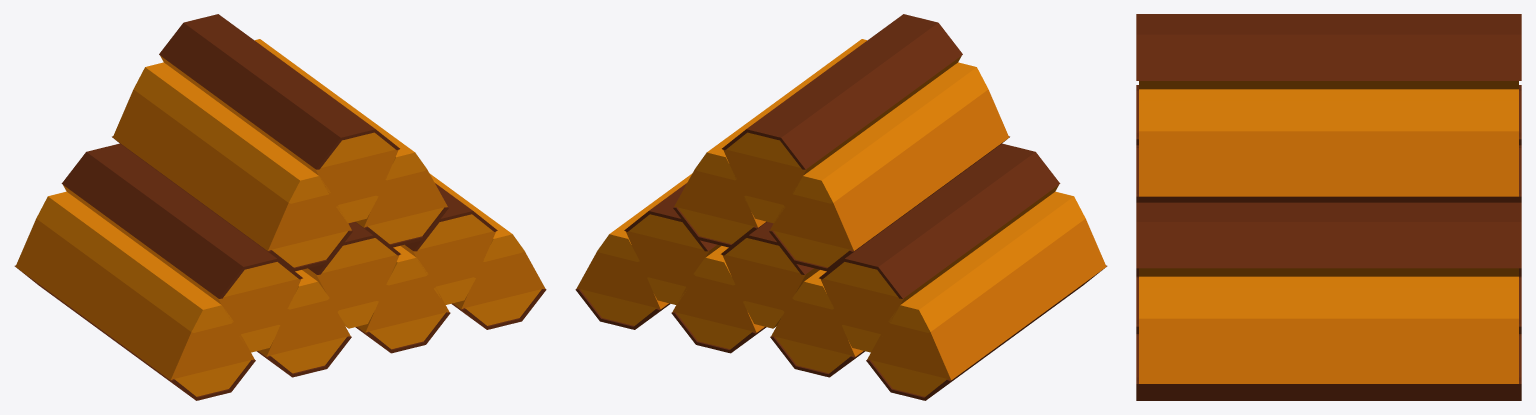
File: Small Log_31.fbx
3 views of the same model, side by side, from view 1: azimuth 30°, elevation 25°; view 2: azimuth 150°, elevation 25°; view 3: azimuth 270°, elevation 25° (orthographic). The views are drawn at different scales.
Parts seen in each view (by area): view 1: Circle.470; view 2: Circle.470; view 3: Circle.470.
Part boxes in pixels (x1=…): Circle.470: x1=14, y1=14, x2=546, y2=400; Circle.470: x1=575, y1=14, x2=1107, y2=400; Circle.470: x1=1136, y1=14, x2=1521, y2=400.
Bounding box in the file's own units: 32.68 × 18.99 × 23.76.
